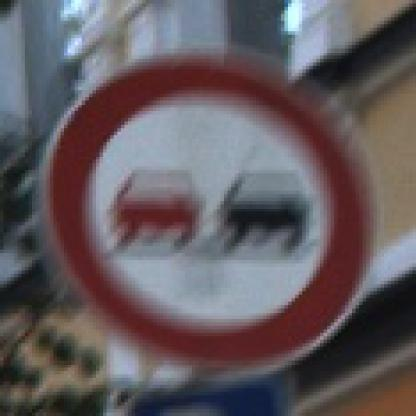No Overtaking: (37, 39, 382, 382)
